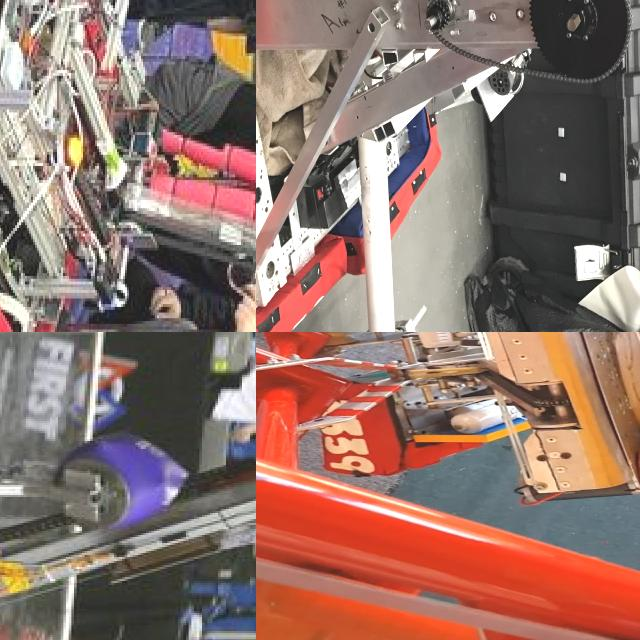FRC-Robots: (256, 0, 640, 332), (0, 0, 256, 332), (0, 332, 256, 640), (256, 332, 640, 507)
